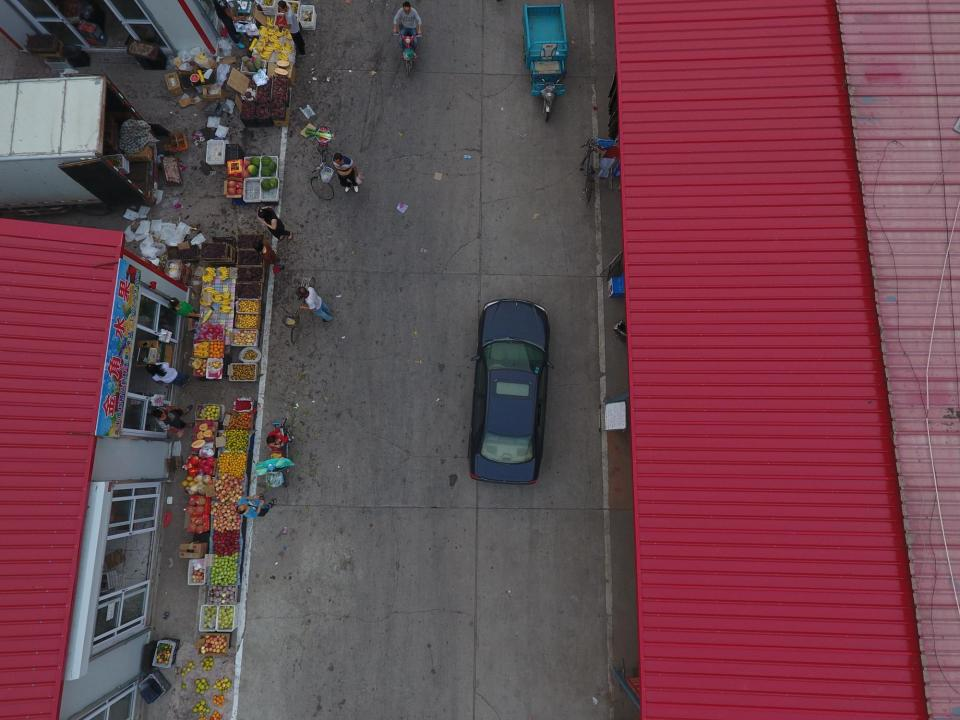car: (467, 299, 553, 485)
truck: (0, 74, 158, 214)
